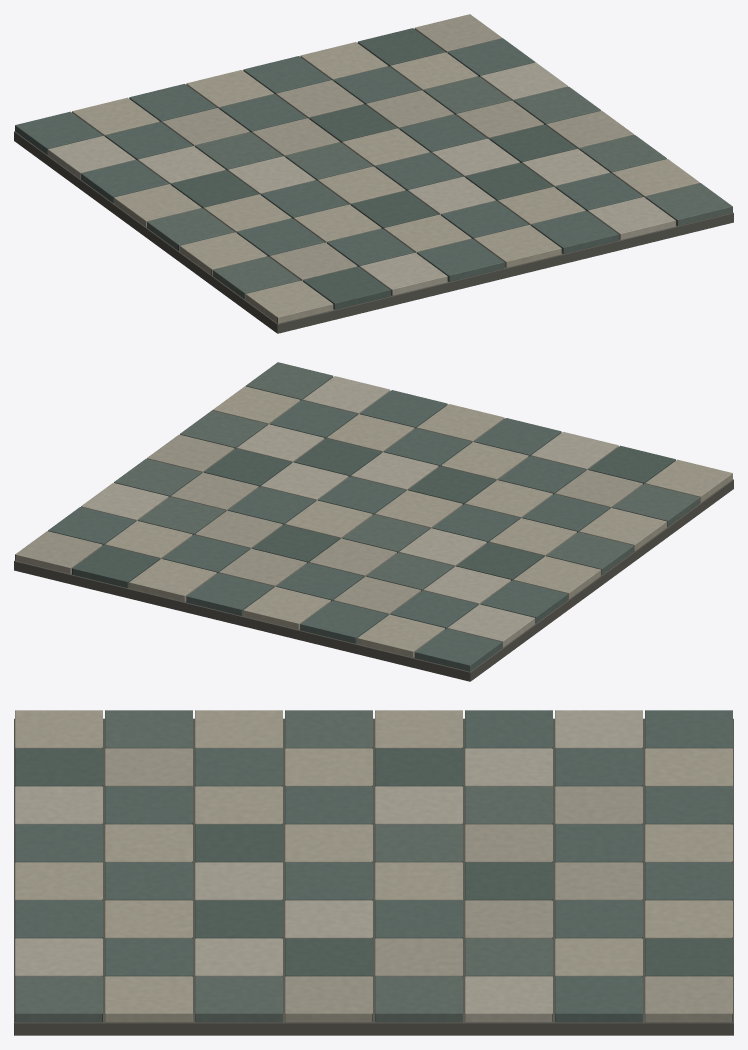
File: Floor_Tiles_4x4.glb
3 views of the same model, one above another, from view 1: azimuth 30°, elevation 25°; view 2: azimuth 150°, elevation 25°; view 3: azimuth 270°, elevation 25° (orthographic). The views are drawn at different scales.
Parts seen in each view (by area): view 1: Floor_Tiles_4x4.001; view 2: Floor_Tiles_4x4.001; view 3: Floor_Tiles_4x4.001.
Boxes of the visible parts, x1,y1,x2,y2 form: Floor_Tiles_4x4.001: (14,14,733,333); Floor_Tiles_4x4.001: (14,362,733,681); Floor_Tiles_4x4.001: (14,710,733,1035).
Size of the model in its own units: 4 by 0.135 by 4.
7 materials, 7 textured.
